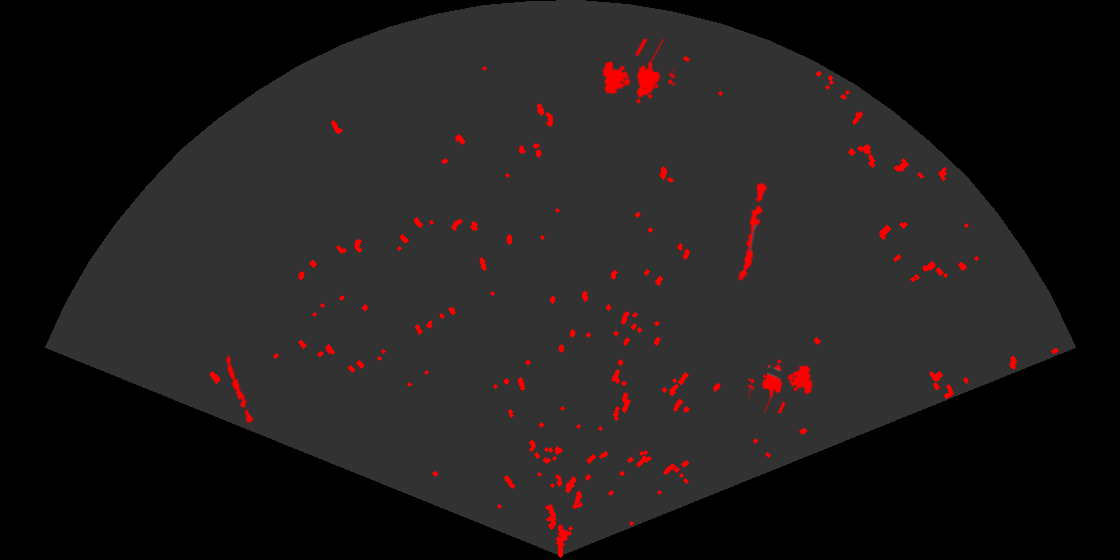cage: (601, 39, 675, 105), (748, 357, 814, 413)
chain: (736, 180, 770, 283), (224, 354, 255, 428)
